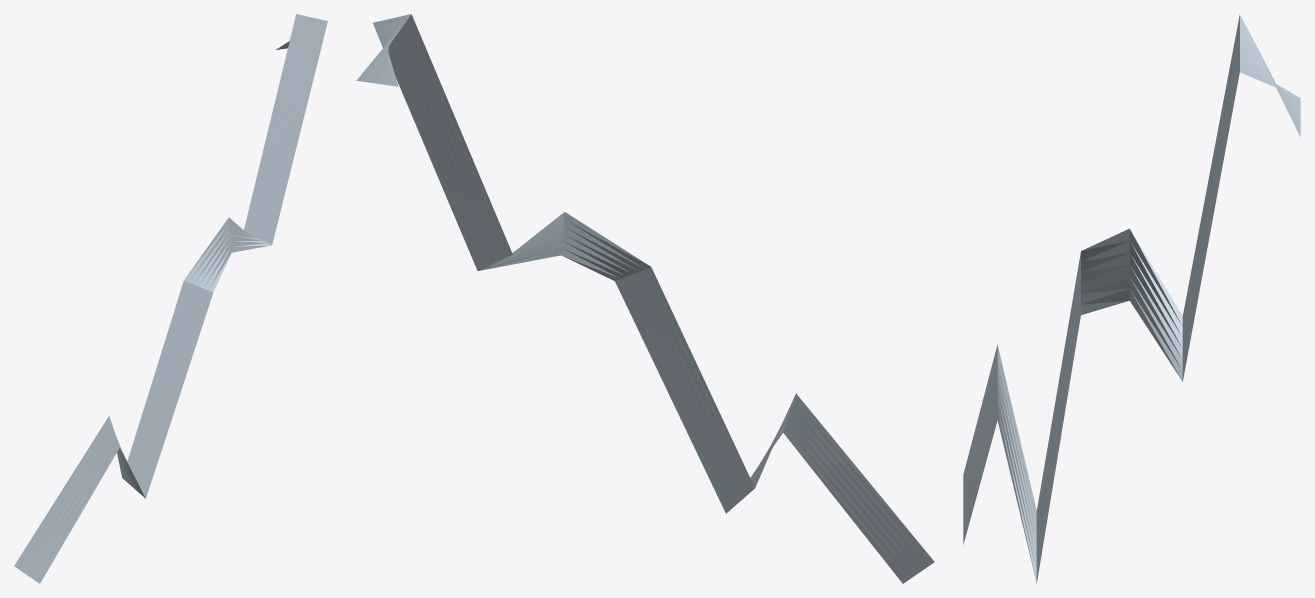
The model's file is 2059_ElectroSurround_SurroundArc10.fbx.
3 views of the same model, side by side, from view 1: azimuth 30°, elevation 25°; view 2: azimuth 150°, elevation 25°; view 3: azimuth 270°, elevation 25° (orthographic). The views are drawn at different scales.
Parts seen in each view (by area): view 1: PART_SurroundArc10; view 2: PART_SurroundArc10; view 3: PART_SurroundArc10.
Part boxes in pixels (x1=…): PART_SurroundArc10: x1=14, y1=14, x2=327, y2=583; PART_SurroundArc10: x1=356, y1=14, x2=934, y2=583; PART_SurroundArc10: x1=963, y1=14, x2=1300, y2=583.
Size of the model in its own units: 48.85 by 52.86 by 19.26.
